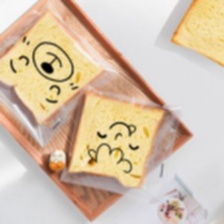snack: (0, 0, 124, 152), (53, 81, 187, 209), (147, 0, 224, 86)
